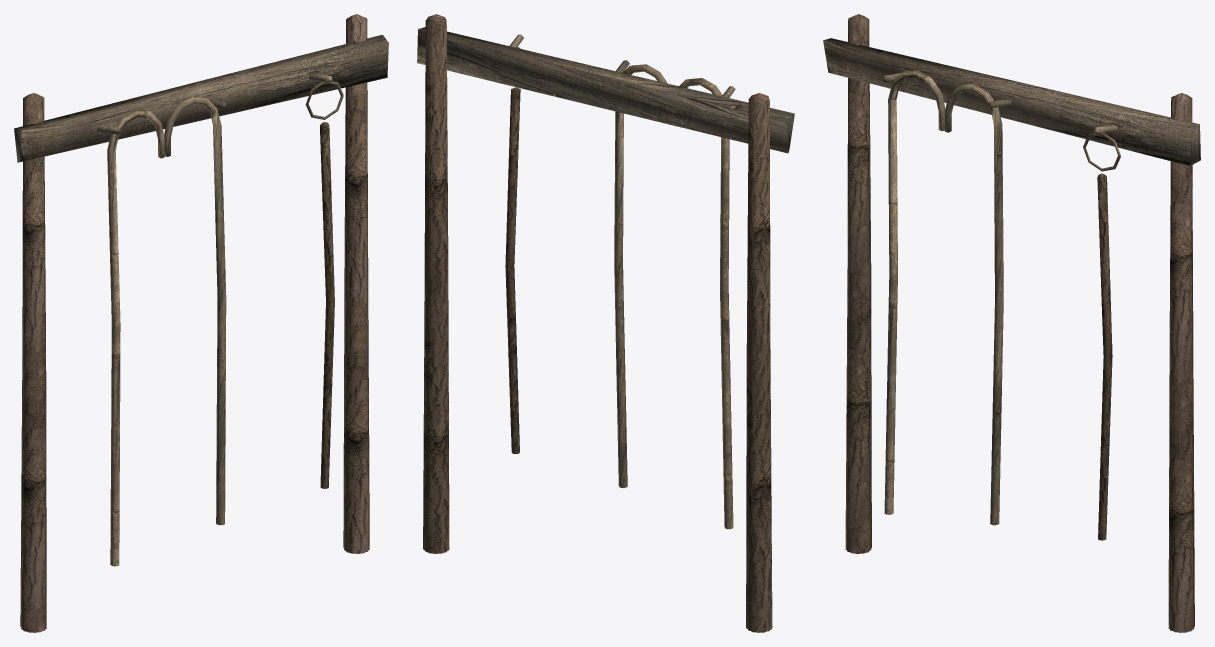
Rendered from kit_sr_crook_rack_p.glb.
3 renders of one model, left to right at view 1: azimuth 30°, elevation 25°; view 2: azimuth 150°, elevation 25°; view 3: azimuth 330°, elevation 25°, orthographic.
Visible parts, largest first — view 1: kit_sr_crook_rack_p; view 2: kit_sr_crook_rack_p; view 3: kit_sr_crook_rack_p.
Boxes of the visible parts, x1,y1,x2,y2 form: kit_sr_crook_rack_p: (14,14,388,632); kit_sr_crook_rack_p: (417,14,794,632); kit_sr_crook_rack_p: (823,14,1200,632).
Size of the model in its own units: 1.26 by 1.74 by 0.2163.
1 material, 1 textured.
